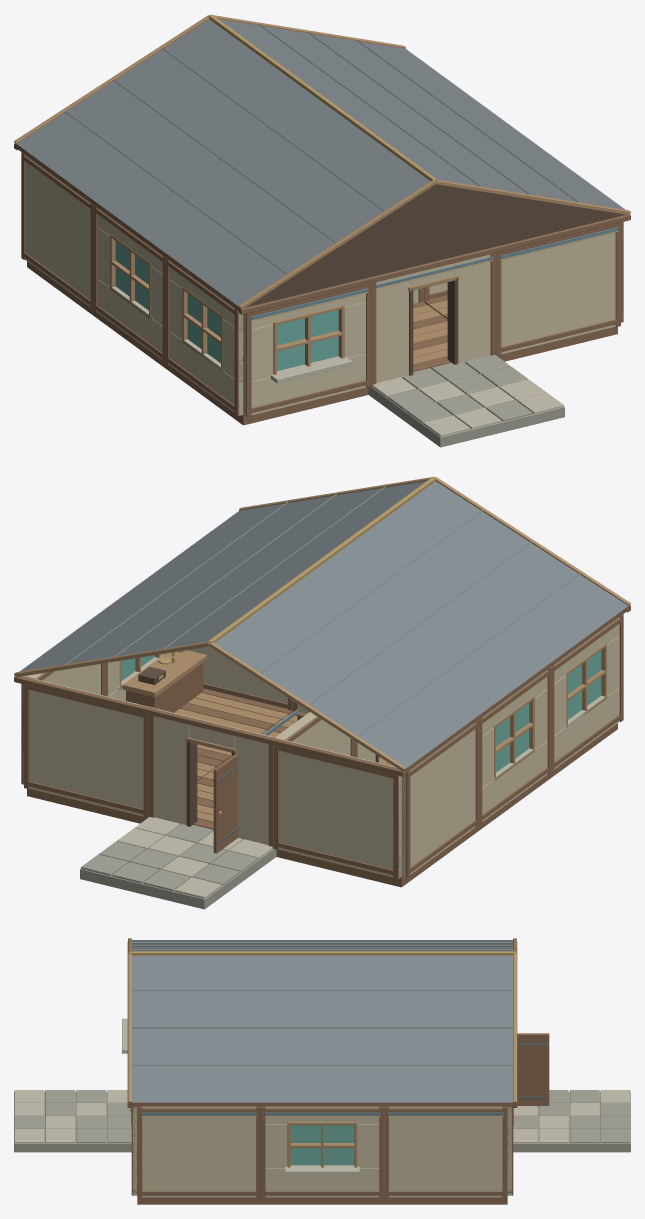
Rendered from tv_32_01_general_store.glb.
3 views of the same model, one above another, from view 1: azimuth 30°, elevation 25°; view 2: azimuth 150°, elevation 25°; view 3: azimuth 270°, elevation 25° (orthographic). The views are drawn at different scales.
Visible parts, largest first — view 1: s_roof_12x12_0028, s_window_timber_0013, s_wall_timber_0024, floor_stone_0003, s_door_timber_0020, s_window_timber_0012, s_wall_timber_0018, s_window_timber_0015, floor_woodfloor_0004, floor_woodfloor_0000, floor_woodfloor_0008; view 2: s_roof_12x12_0028, s_wall_timber_0017, s_wall_timber_0027, s_door_timber_0021, floor_stone_0007, s_wall_timber_0018, s_window_timber_0012, s_window_timber_0015, s_shop_counter_0033, floor_woodfloor_0009, s_wall_timber_0023, s_wall_timber_0016 (+5 smaller); view 3: s_roof_12x12_0028, s_window_timber_0025, s_wall_timber_0022, s_wall_timber_0026, floor_stone_0003, floor_stone_0007, s_door_timber_0021, floor_woodfloor_0009, floor_woodfloor_0008, floor_woodfloor_0010, s_wall_timber_0024, s_wall_timber_0027.
Boxes of the visible parts, x1,y1,x2,y2 form: s_roof_12x12_0028: [14, 14, 630, 314]; s_window_timber_0013: [243, 283, 371, 417]; s_wall_timber_0024: [496, 222, 620, 356]; floor_stone_0003: [368, 355, 564, 447]; s_door_timber_0020: [371, 253, 496, 386]; s_window_timber_0012: [165, 258, 243, 416]; s_wall_timber_0018: [21, 152, 93, 310]; s_window_timber_0015: [93, 205, 165, 363]; floor_woodfloor_0004: [413, 302, 450, 371]; floor_woodfloor_0000: [171, 367, 368, 425]; floor_woodfloor_0008: [425, 295, 617, 361]; s_roof_12x12_0028: [14, 476, 630, 776]; s_wall_timber_0017: [273, 738, 401, 879]; s_wall_timber_0027: [24, 678, 154, 818]; s_door_timber_0021: [148, 707, 273, 853]; floor_stone_0007: [80, 817, 276, 909]; s_wall_timber_0018: [401, 720, 479, 878]; s_window_timber_0012: [551, 614, 623, 772]; s_window_timber_0015: [479, 667, 551, 825]; s_shop_counter_0033: [122, 650, 206, 712]; floor_woodfloor_0009: [174, 688, 291, 762]; s_wall_timber_0023: [188, 646, 292, 711]; s_wall_timber_0016: [273, 712, 354, 756]; s_roof_12x12_0028: [127, 938, 517, 1107]; s_window_timber_0025: [260, 1106, 384, 1197]; s_wall_timber_0022: [137, 1106, 260, 1197]; s_wall_timber_0026: [384, 1106, 507, 1197]; floor_stone_0003: [14, 1090, 131, 1152]; floor_stone_0007: [513, 1090, 630, 1152]; s_door_timber_0021: [513, 1033, 549, 1125]; floor_woodfloor_0009: [260, 1197, 384, 1204]; floor_woodfloor_0008: [137, 1197, 260, 1204]; floor_woodfloor_0010: [384, 1197, 507, 1204]; s_wall_timber_0024: [130, 1106, 137, 1195]; s_wall_timber_0027: [507, 1106, 513, 1195].
Size of the model in its own units: 12.76 by 6.24 by 20.
